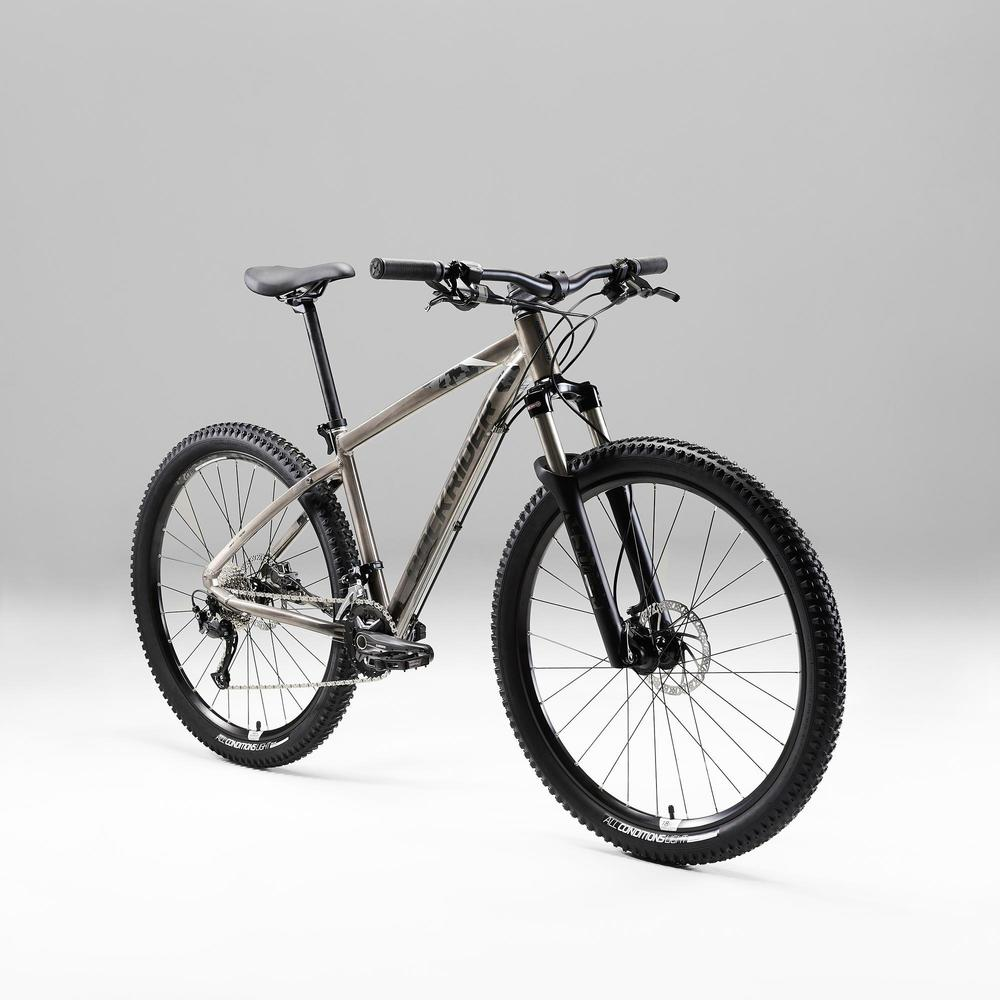MountainBike: (123, 253, 843, 855)
